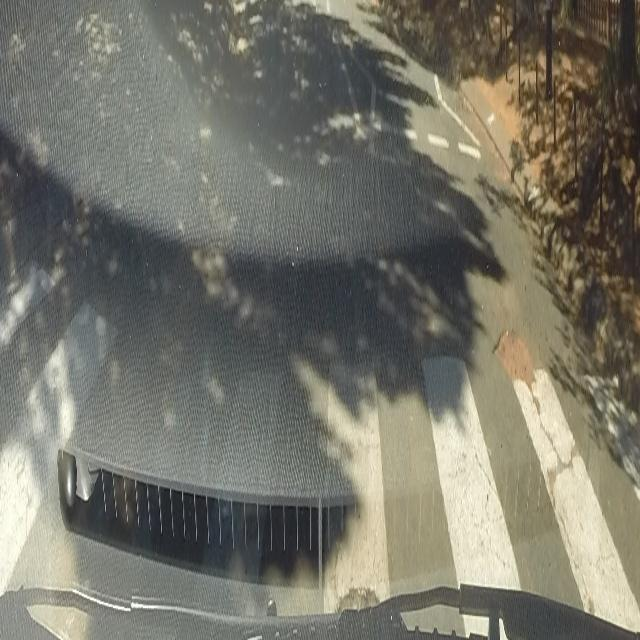pothole: (491, 321, 536, 393)
